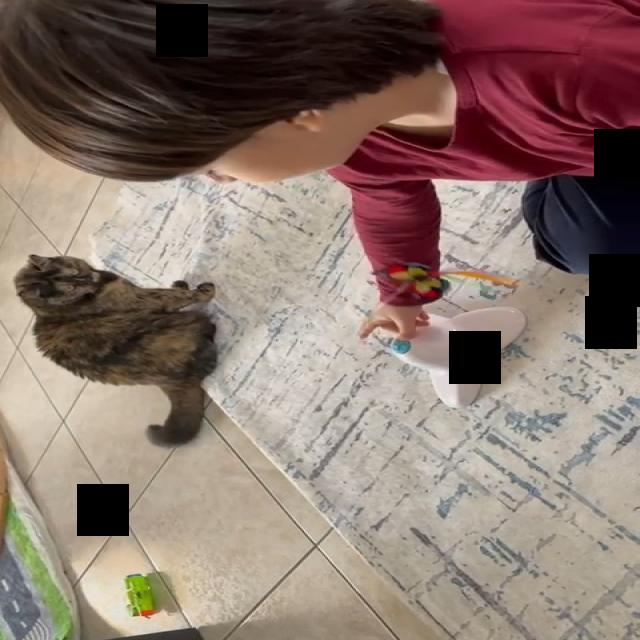authorized: (12, 254, 219, 446)
